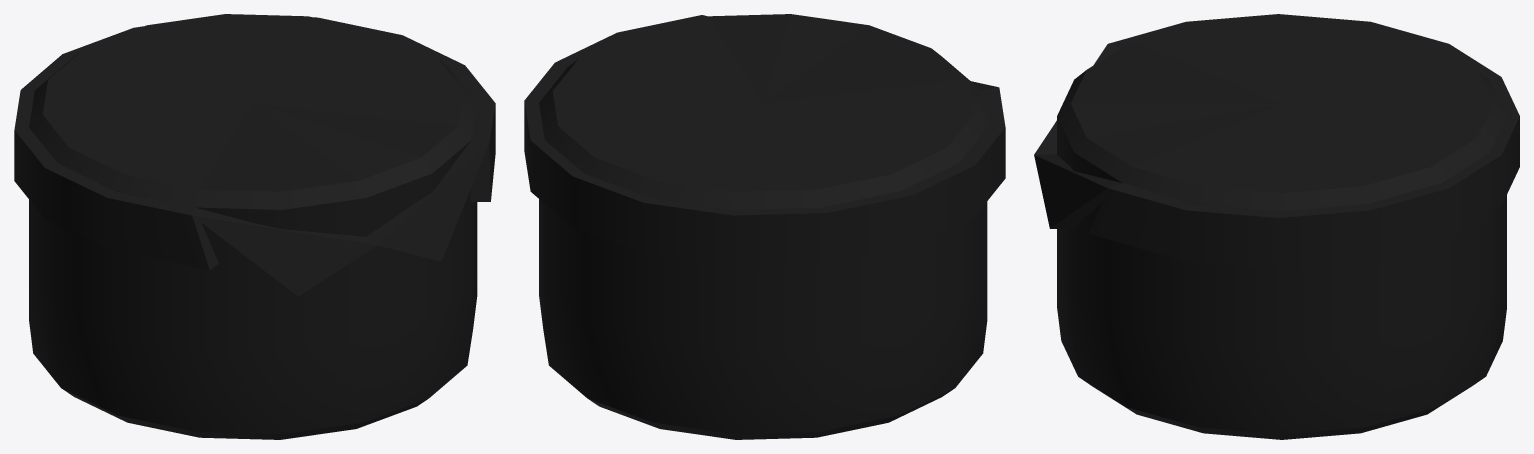
The model's file is Body_Cooking_Chef_Dress_02_C02.fbx.
3 renders of one model, left to right at view 1: azimuth 30°, elevation 25°; view 2: azimuth 150°, elevation 25°; view 3: azimuth 270°, elevation 25°, orthographic.
Parts seen in each view (by area): view 1: Body_Cooking_Chef_Dress_02_C02; view 2: Body_Cooking_Chef_Dress_02_C02; view 3: Body_Cooking_Chef_Dress_02_C02.
Boxes of the visible parts, box(x1,y1,x2,y2) form: Body_Cooking_Chef_Dress_02_C02: box(14, 14, 495, 439); Body_Cooking_Chef_Dress_02_C02: box(524, 14, 1005, 439); Body_Cooking_Chef_Dress_02_C02: box(1034, 14, 1519, 439).
Size of the model in its own units: 107 by 61.13 by 108.
